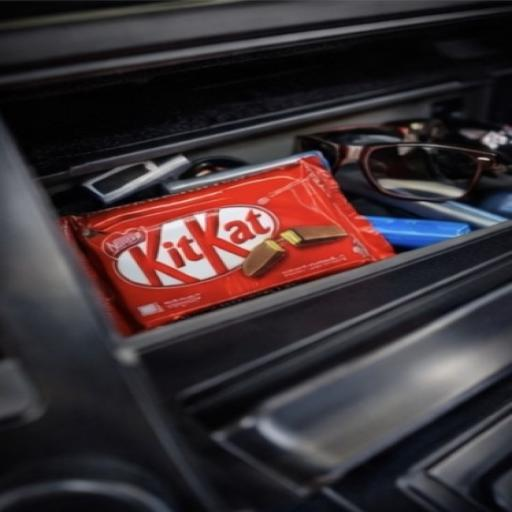kitkat: (37, 156, 499, 368)
